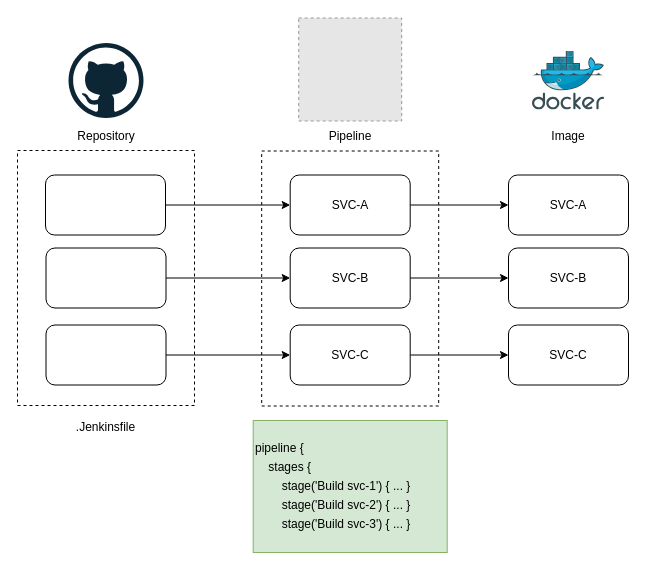
Image size: 646x570. Some labels were removed from this diagram. Grey dashed boxes stand in for pictures. The shapes that lost their labels are listed below. From the top down, each one's box as (x1, y1, x2, y2) in pixels, then its label:
(44, 174, 166, 235): ./svc-a
(45, 247, 166, 308): ./svc-b
(45, 324, 166, 385): ./svc-c
